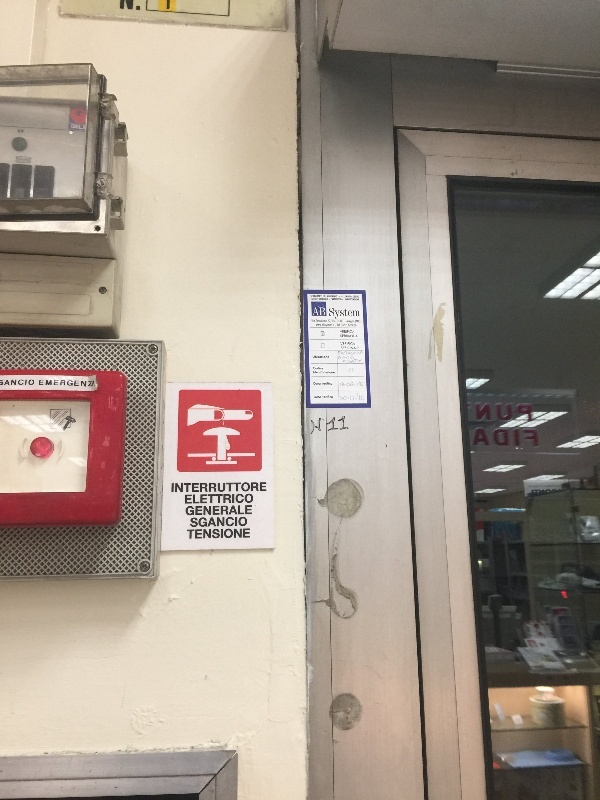text: (481, 403, 496, 422), (497, 403, 512, 422), (513, 403, 528, 422), (481, 428, 496, 446), (497, 428, 512, 446), (513, 428, 528, 446), (337, 416, 349, 431), (337, 308, 352, 320), (529, 428, 539, 446), (177, 482, 192, 493), (193, 482, 208, 493), (209, 482, 224, 493), (225, 482, 240, 493), (241, 482, 256, 493), (193, 505, 208, 516), (209, 505, 224, 516), (225, 505, 240, 516), (193, 517, 208, 528), (209, 517, 224, 528), (225, 517, 240, 528), (71, 107, 80, 125), (311, 418, 320, 435), (193, 494, 208, 504), (209, 494, 224, 504), (225, 494, 240, 504), (193, 529, 208, 539), (209, 529, 224, 539), (225, 529, 240, 539), (327, 416, 336, 431), (241, 505, 252, 516), (49, 380, 64, 388), (65, 380, 80, 388), (241, 494, 253, 504), (81, 380, 95, 388), (257, 482, 267, 493), (241, 529, 251, 539), (353, 308, 361, 320), (475, 403, 480, 422), (1, 380, 16, 386), (17, 380, 32, 386), (81, 107, 86, 125), (321, 295, 336, 301), (337, 295, 352, 301), (341, 393, 352, 401), (353, 393, 364, 401), (329, 308, 336, 320), (241, 517, 248, 528), (529, 403, 533, 422), (338, 351, 352, 356), (186, 505, 192, 516), (357, 381, 368, 387), (40, 380, 48, 388), (186, 494, 192, 504), (338, 356, 352, 360), (71, 124, 80, 130), (311, 295, 320, 301), (477, 428, 480, 446), (187, 529, 192, 539), (353, 351, 363, 356), (340, 382, 352, 386), (315, 307, 320, 316), (321, 307, 326, 316), (172, 482, 176, 493), (341, 342, 352, 346), (353, 295, 360, 301), (338, 320, 352, 323), (321, 371, 335, 374), (322, 382, 336, 385), (322, 396, 336, 399), (321, 324, 335, 327), (355, 320, 368, 323), (340, 331, 352, 334), (341, 324, 352, 327), (341, 335, 352, 338), (341, 347, 352, 350), (321, 355, 329, 359), (313, 355, 320, 359), (343, 360, 352, 363), (353, 360, 362, 363), (81, 124, 85, 130), (312, 320, 320, 323), (328, 320, 336, 323), (346, 320, 352, 324), (353, 347, 360, 350), (313, 371, 320, 374), (313, 367, 320, 370), (321, 320, 327, 323), (314, 382, 320, 385), (331, 320, 336, 323), (353, 335, 358, 338), (33, 380, 35, 386), (316, 320, 320, 323), (332, 320, 336, 323), (348, 324, 352, 327), (353, 324, 357, 327), (353, 342, 356, 346), (314, 396, 320, 398), (316, 324, 320, 327), (191, 517, 192, 528), (350, 368, 352, 373), (353, 320, 355, 324), (353, 382, 355, 386), (353, 331, 355, 334), (321, 367, 323, 370), (353, 356, 354, 360)
